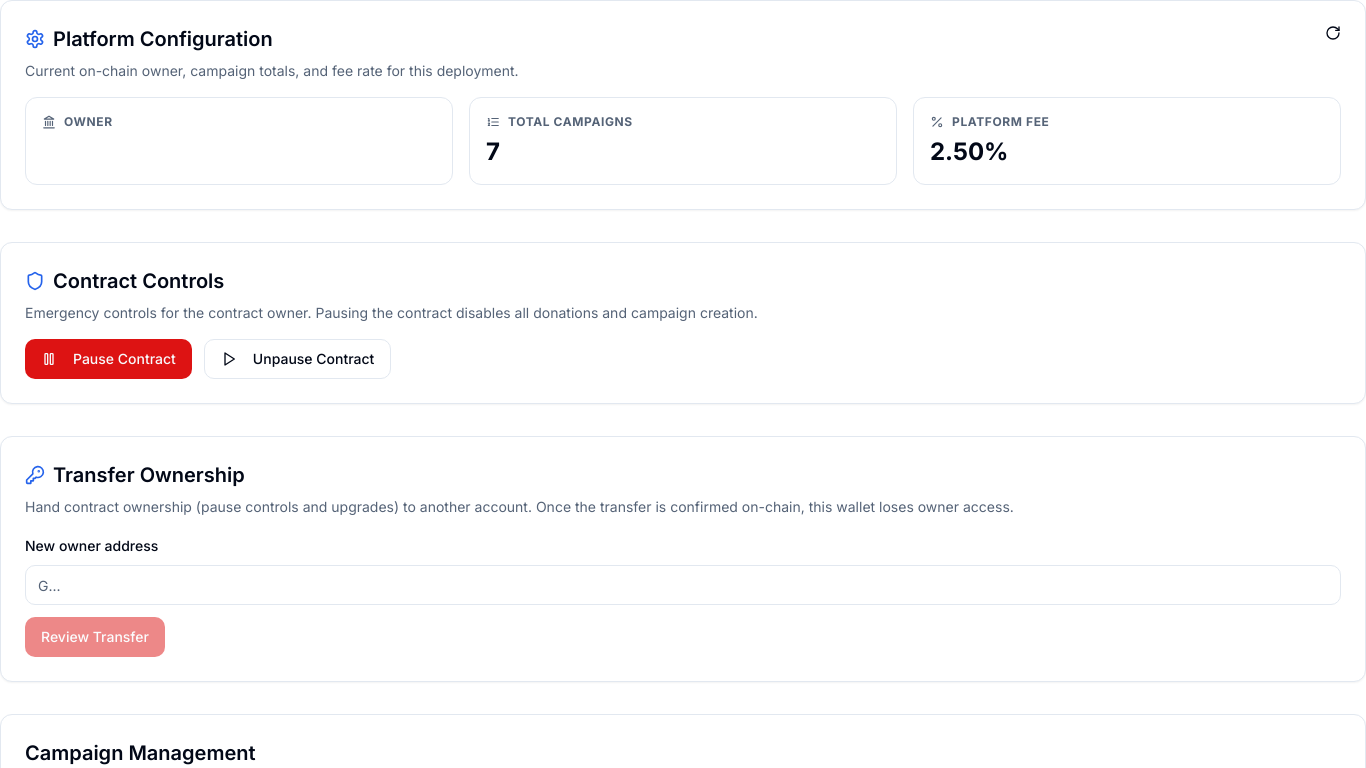
Scenario: AdminPanel – unpause › unpauses the contract and closes the dialog on success
Click the button "Unpause Contract" at {"x": 298, "y": 359}, box 204,339 -> 391,379
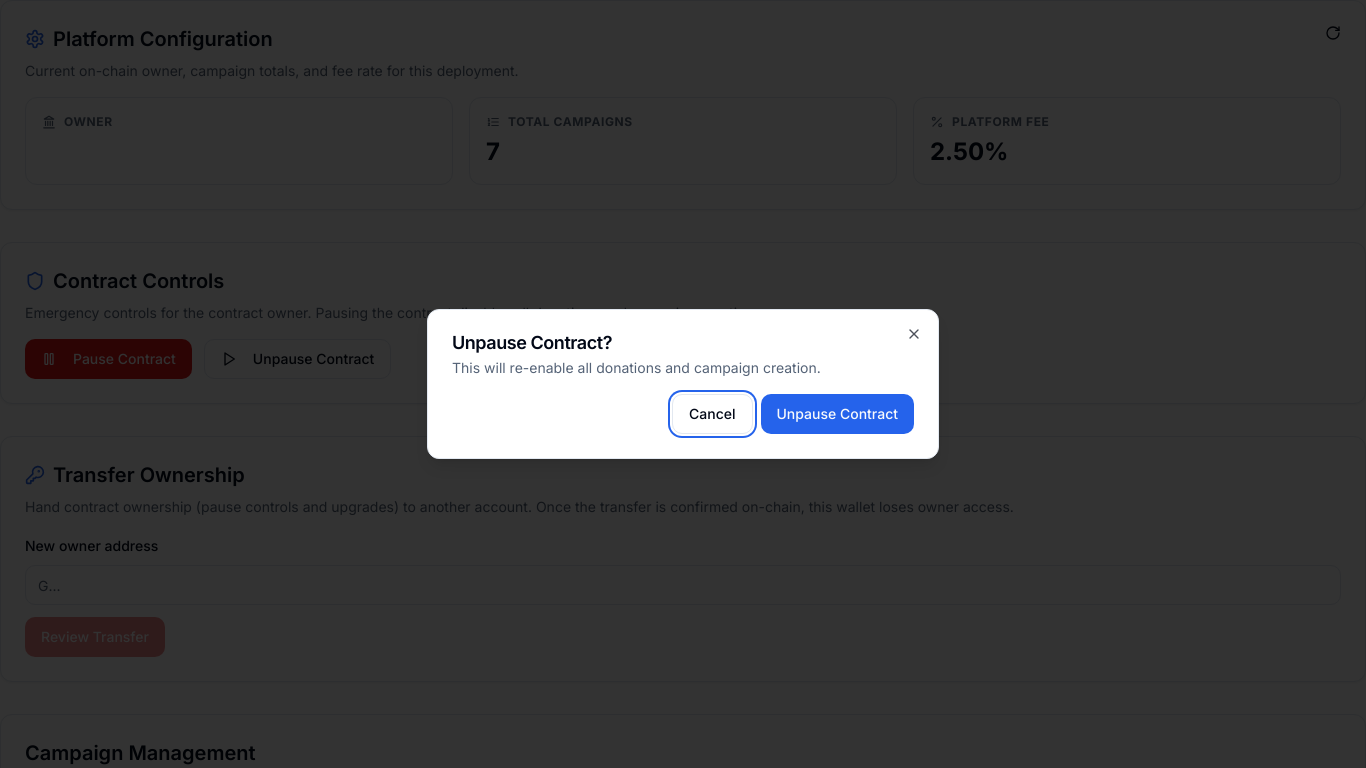
Now the heading "Unpause Contract?" is shown, box 452,332 -> 612,353
Click the button "Unpause Contract" at {"x": 837, "y": 414}, box 760,394 -> 914,434
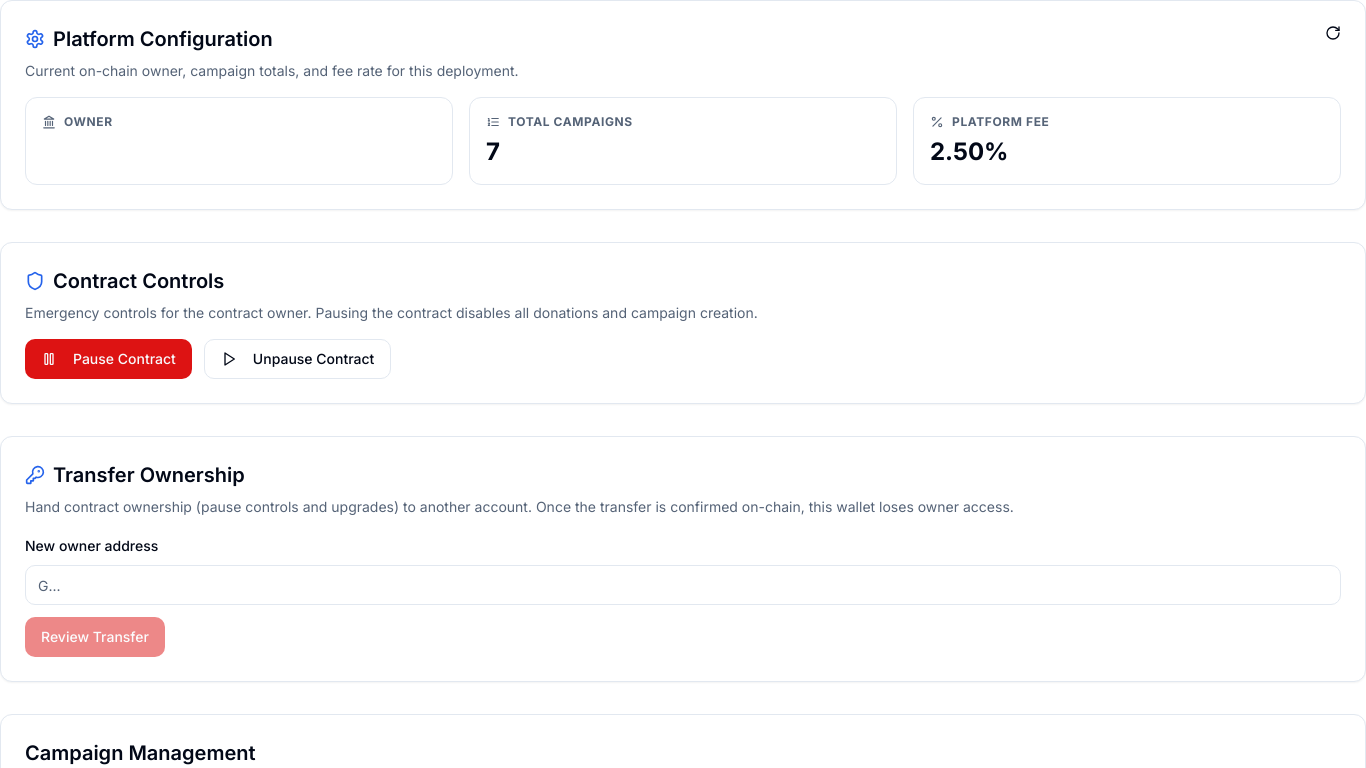
Now the dialog is gone
